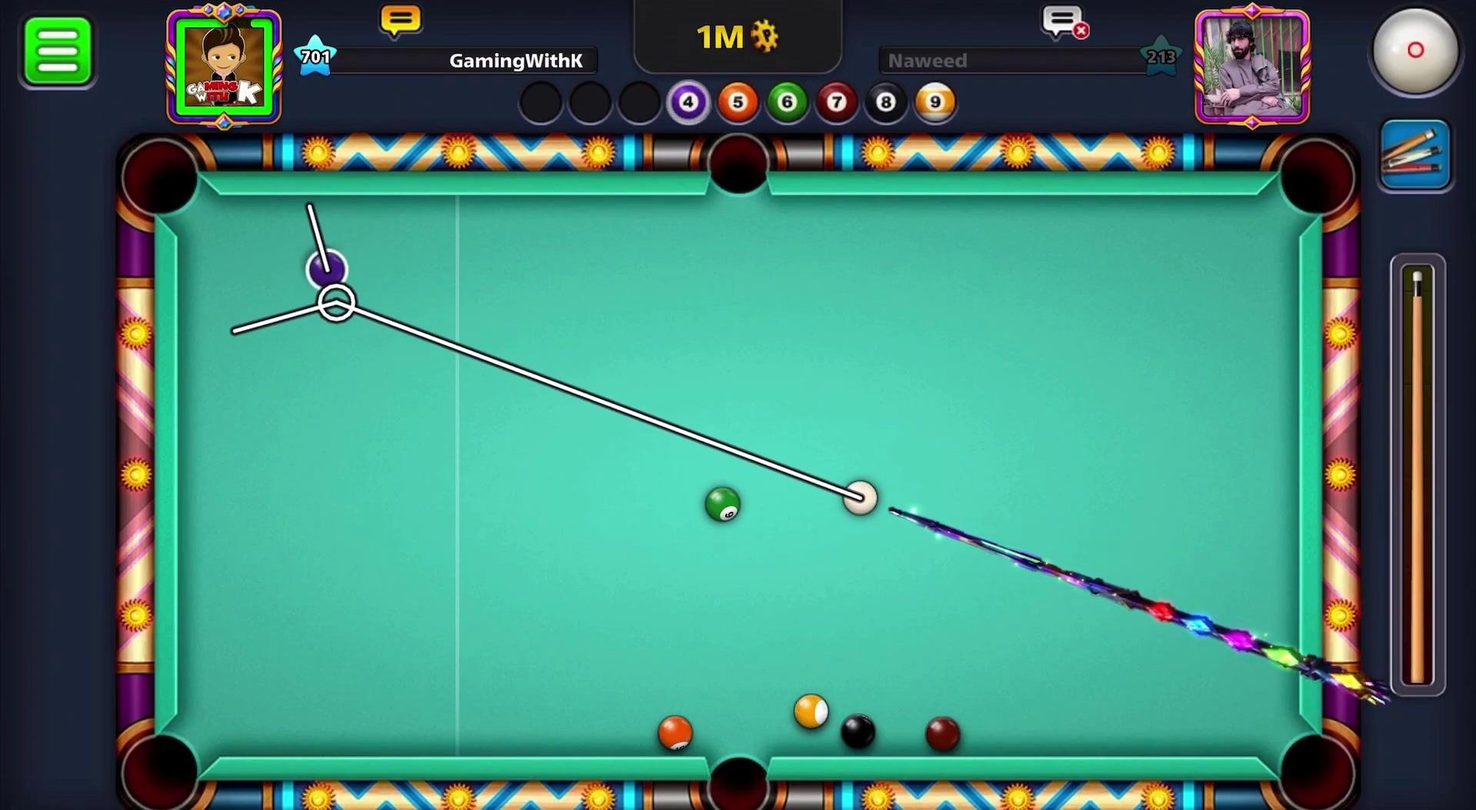Ball: (642, 709, 698, 754), (698, 483, 746, 531), (919, 712, 968, 755), (303, 247, 350, 291), (789, 690, 835, 733), (834, 711, 880, 752)
Force: (1384, 255, 1454, 699)
Guideline: (232, 202, 877, 515)
Hole: (103, 126, 222, 232), (1268, 129, 1367, 229), (110, 717, 213, 809), (1266, 717, 1363, 809), (693, 125, 784, 207), (688, 743, 785, 809)
Play_Area: (175, 192, 1290, 755)
Spin: (1348, 0, 1475, 112)
White: (839, 473, 888, 524)
